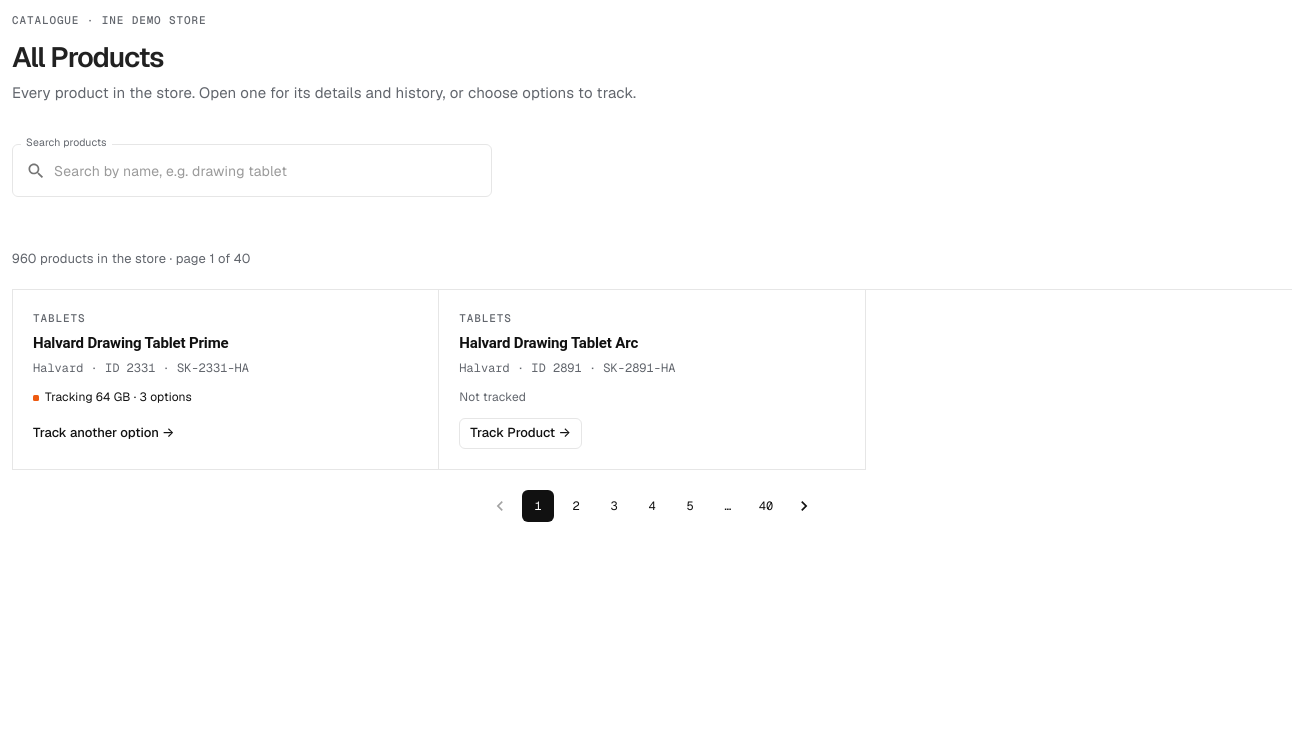
it: All Products › searches the whole catalogue on the server
This screenshot has width=1292, height=732.
Expected: the text "960 products in the store · page 1 of 40" is shown, top-left (12, 250), bottom-right (251, 268)
Type "  drawing   tablet " into the search field labelled "Search products" at (273, 170), box top-left (54, 144), bottom-right (492, 197)
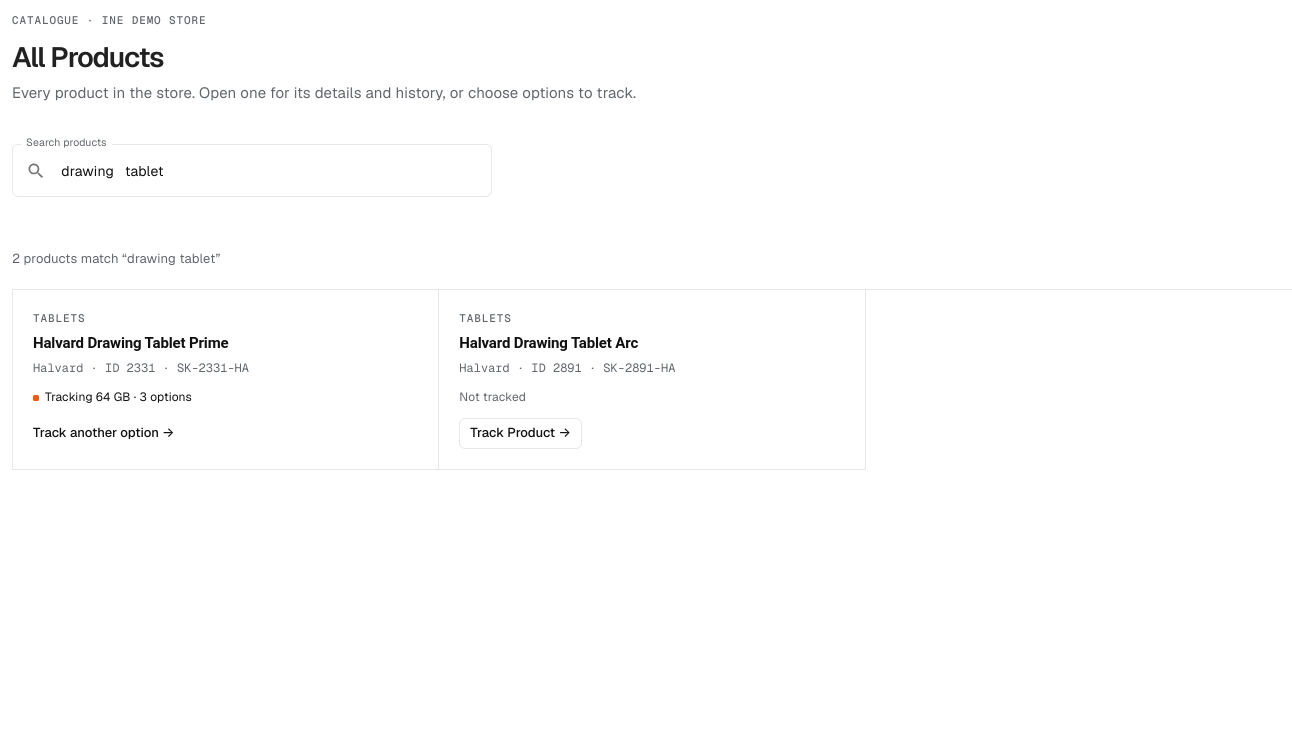
Result: the text "2 products match “drawing tablet”" is shown at top-left (12, 250), bottom-right (220, 268)
